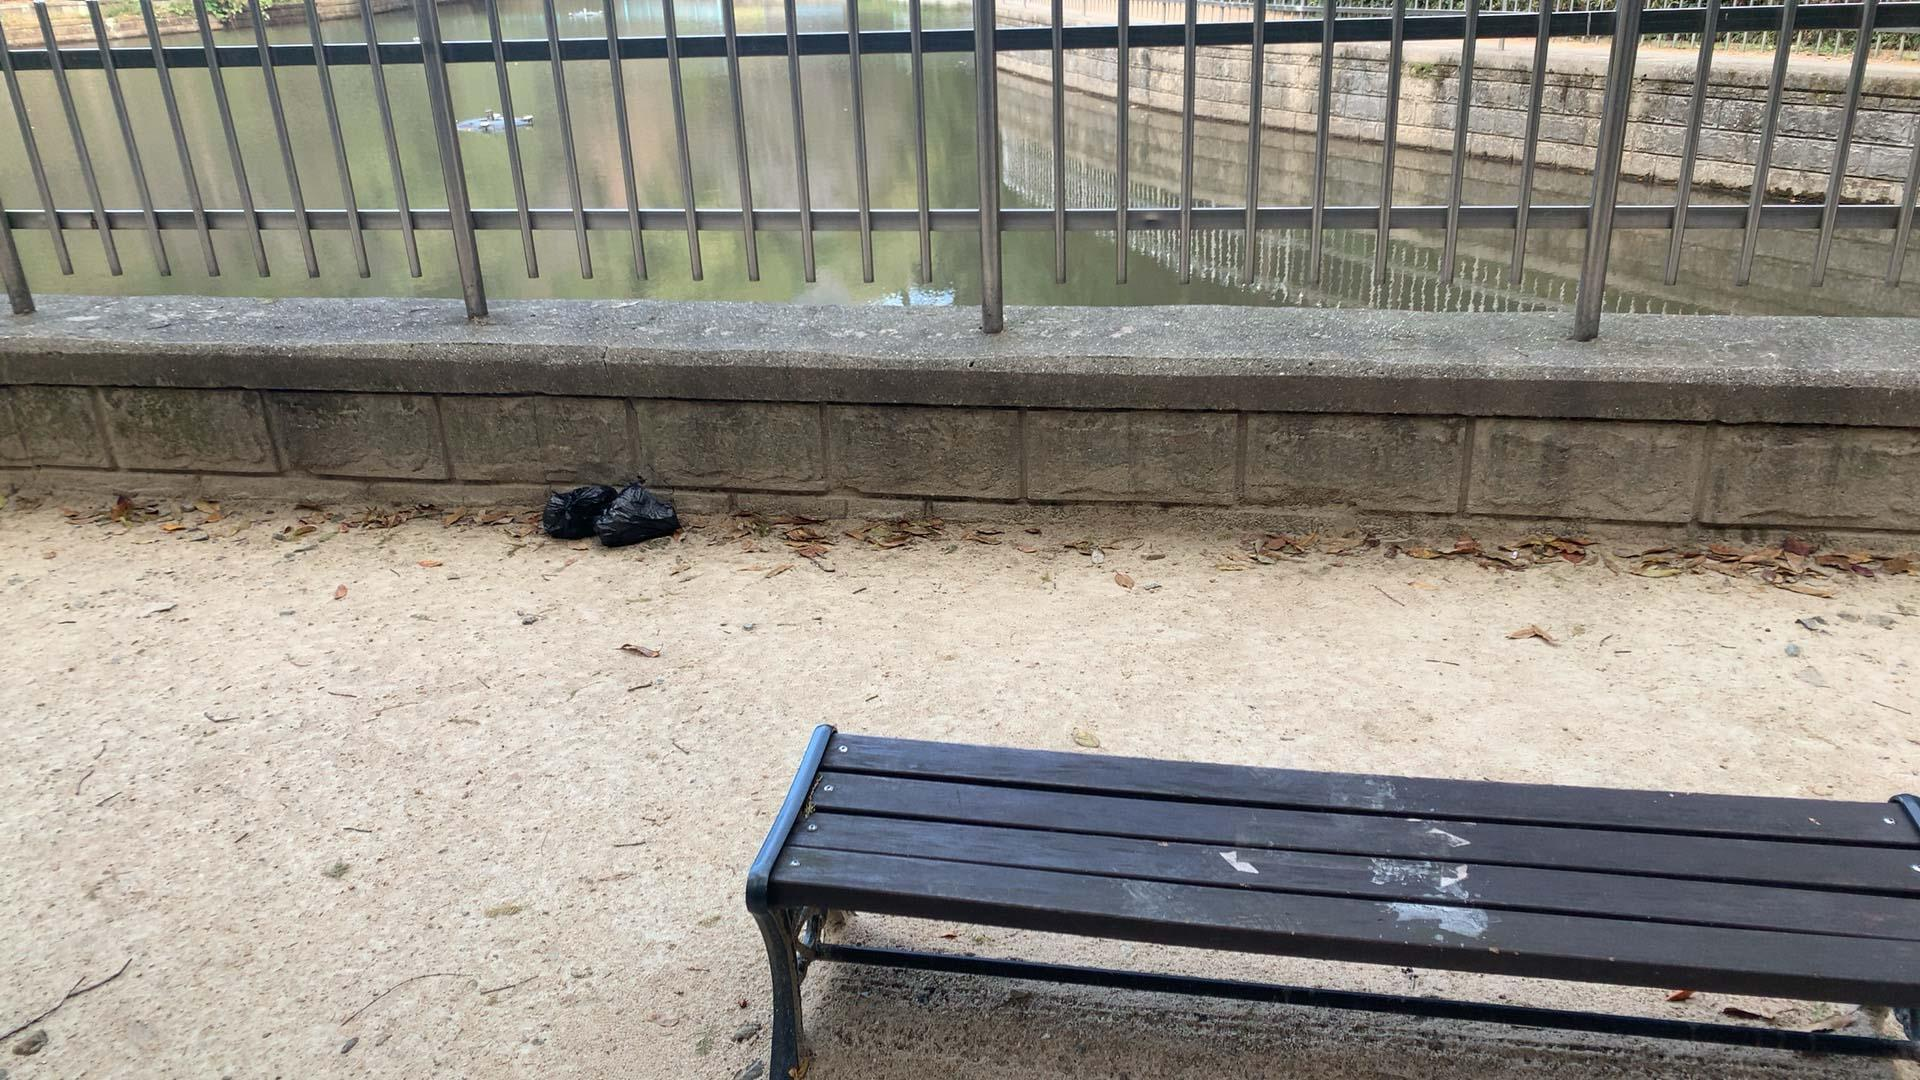black_bag: (591, 483, 684, 543), (537, 480, 620, 542)
